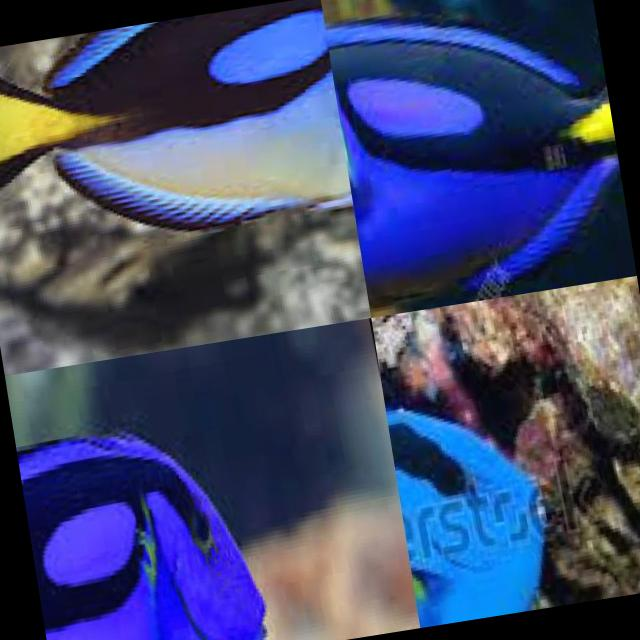BlueTang: (326, 0, 637, 317), (0, 0, 355, 272), (16, 413, 275, 640), (386, 386, 566, 628)
